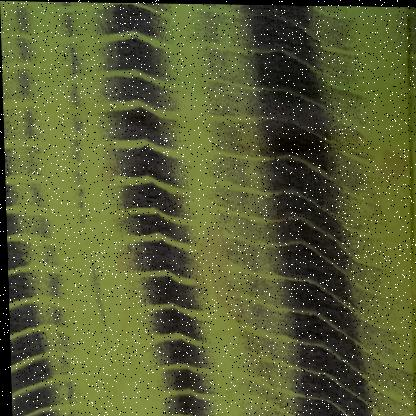spot: (179, 222, 260, 339), (360, 145, 416, 205), (102, 232, 134, 279), (92, 147, 119, 187)
